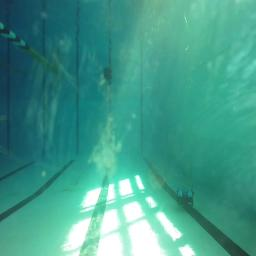Full: (104, 73, 112, 79)
front: (176, 187, 196, 207)
